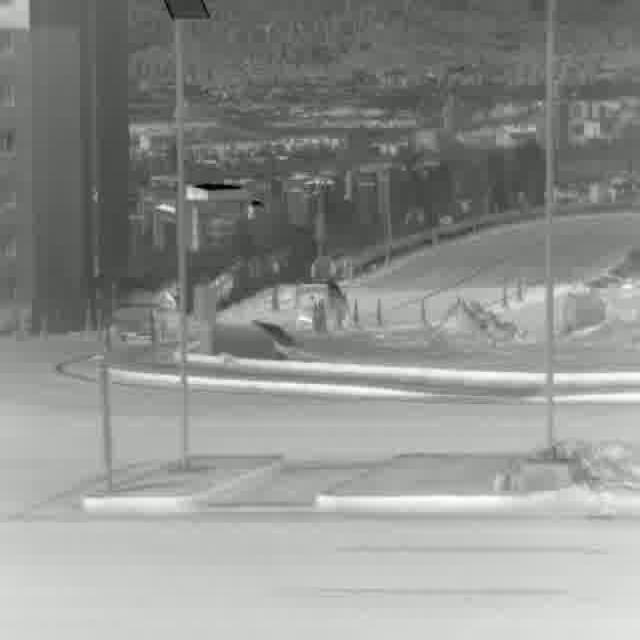Car: (115, 287, 178, 340), (294, 278, 348, 333)
